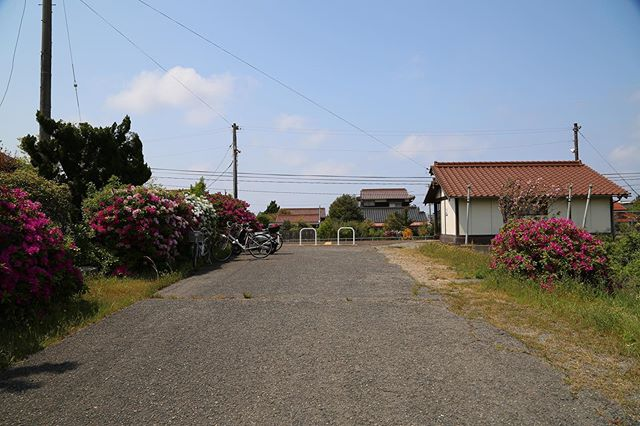bicicle: (213, 221, 290, 260)
building: (427, 146, 626, 246)
sky: (86, 1, 640, 177)
street: (1, 242, 621, 419)
vegetation: (1, 159, 242, 311)
